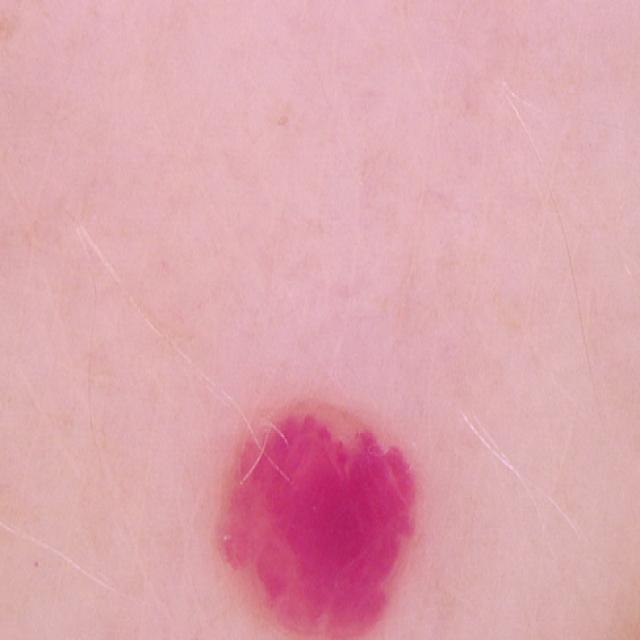Vascular Lesions: (212, 378, 433, 640)
